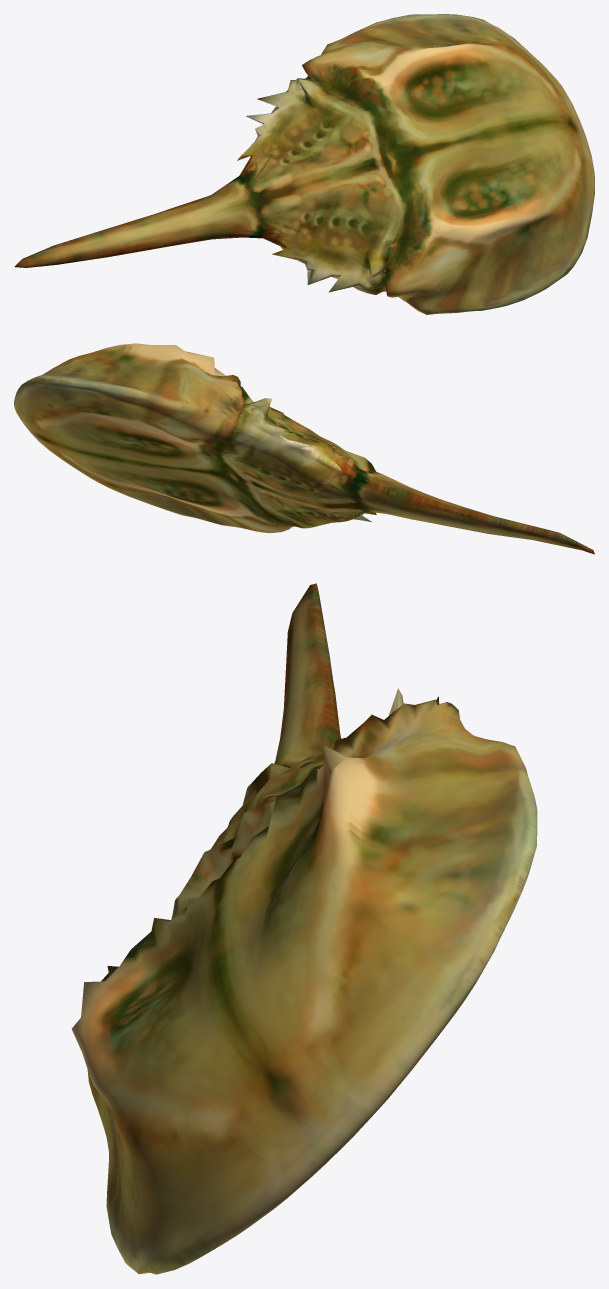
Rendered from horseshoecrab.glb.
The picture shows the model from 3 angles, top to bottom: view 1: azimuth 30°, elevation 25°; view 2: azimuth 150°, elevation 25°; view 3: azimuth 270°, elevation 25°; orthographic projection. The views are drawn at different scales.
Visible parts, largest first — view 1: horseshoe-crab; view 2: horseshoe-crab; view 3: horseshoe-crab.
Part boxes in pixels (x1,y1,x2,y2): horseshoe-crab: (14,14,594,314); horseshoe-crab: (14,343,594,554); horseshoe-crab: (71,583,537,1274).
Size of the model in its own units: 4.01 by 1.49 by 1.43.
1 material, 1 textured.
